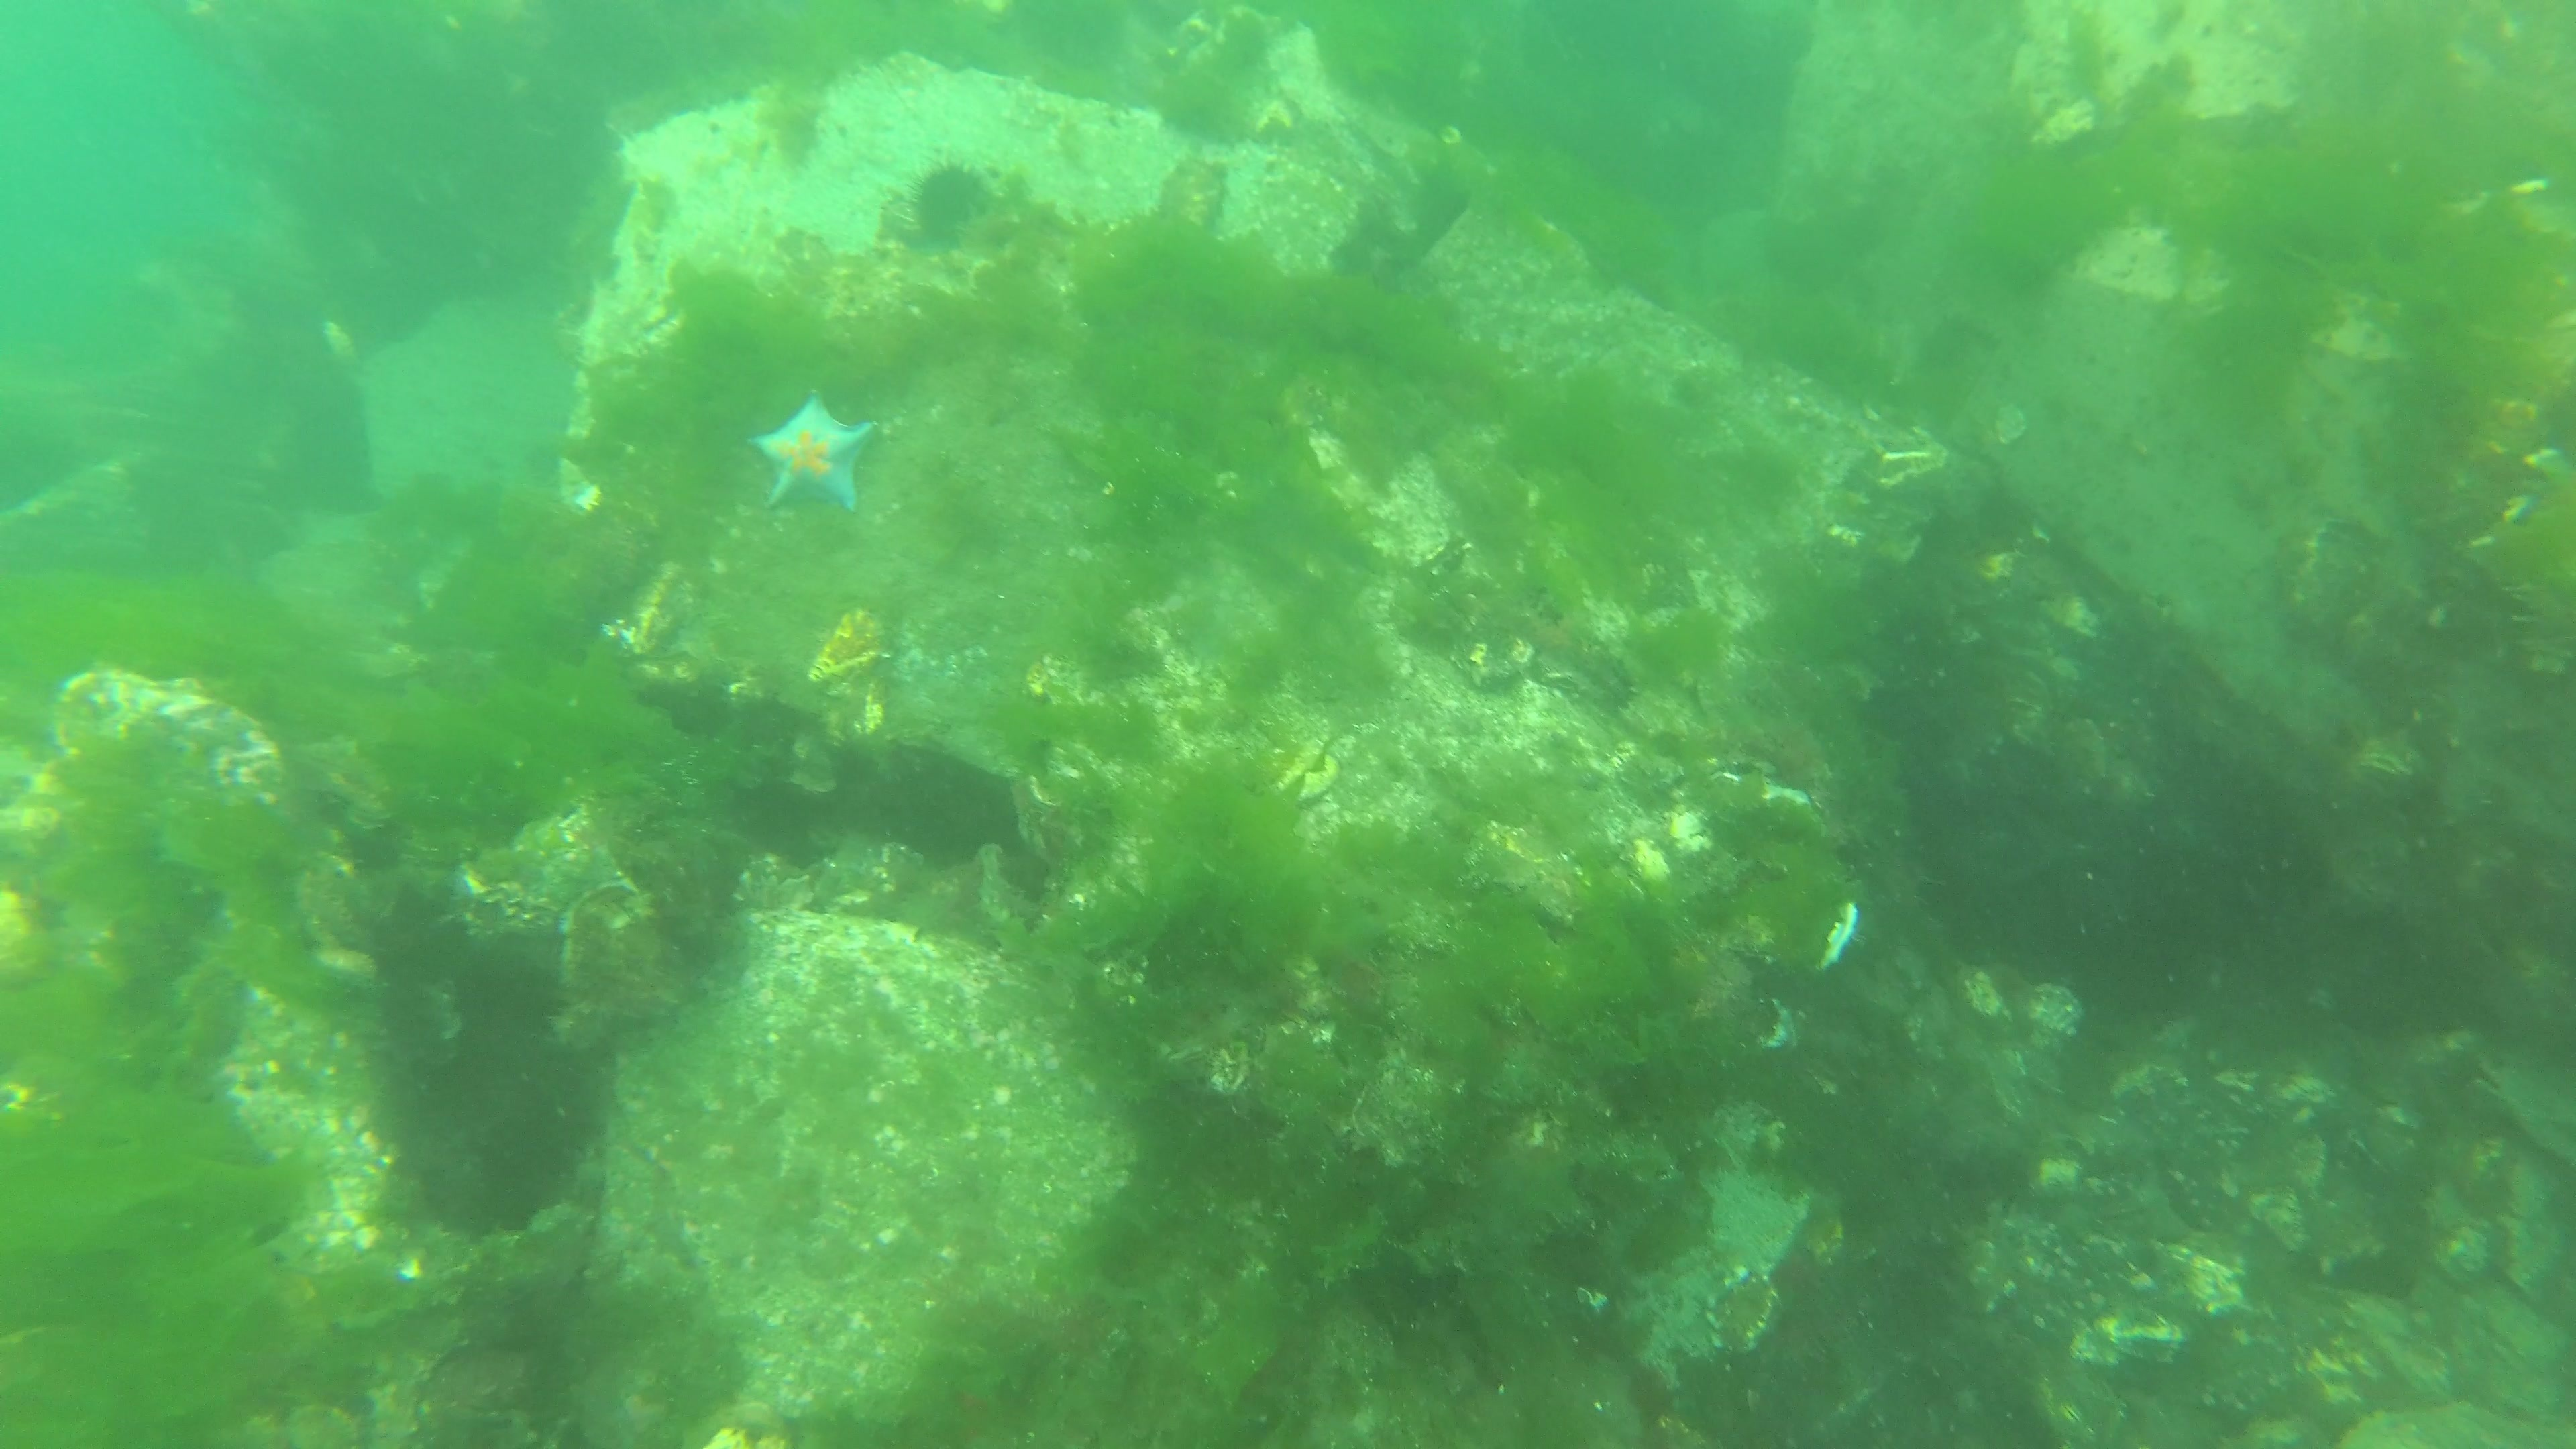echinus: (901, 152, 1000, 249)
starfish: (752, 387, 885, 515)
